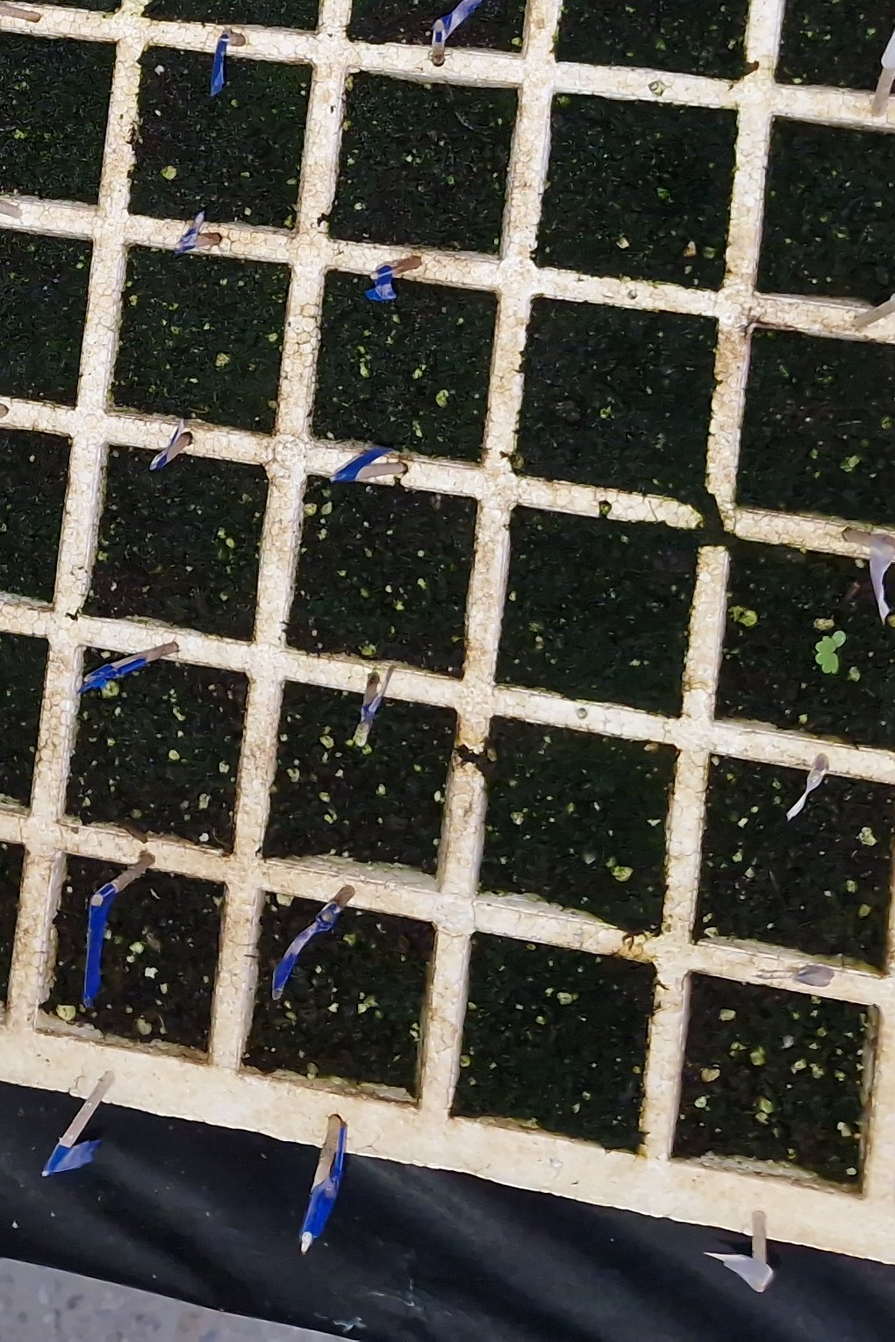Folha: (816, 637, 838, 673), (832, 631, 846, 647)
Germinacao: (816, 630, 846, 673)
